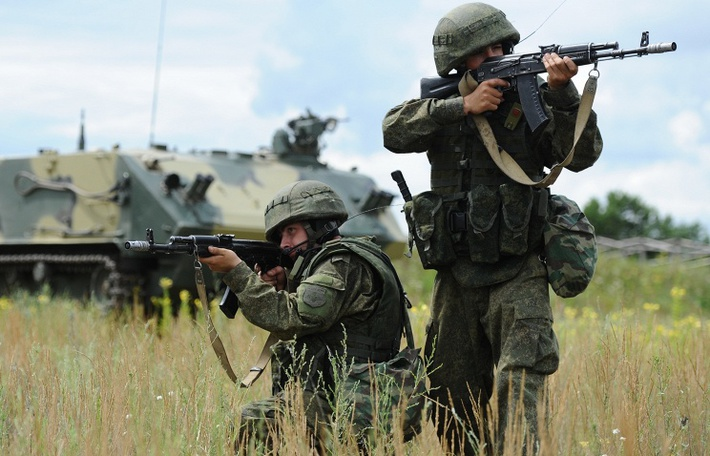Rifle: (420, 33, 683, 134), (120, 229, 284, 312)
